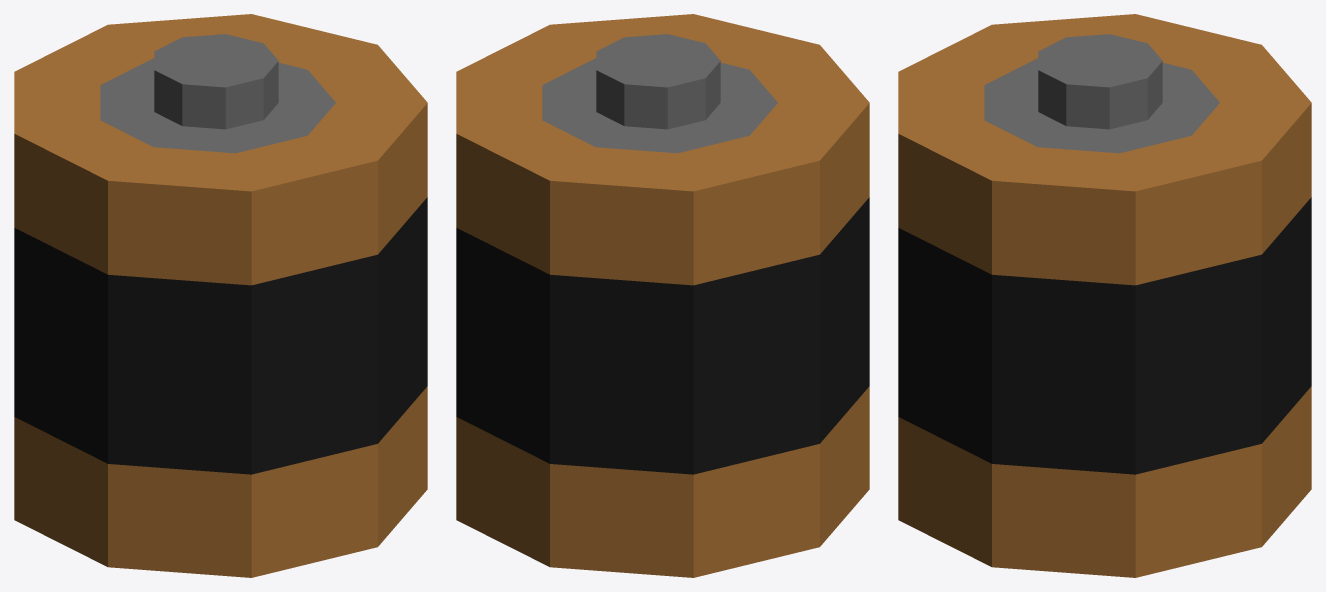
The model's file is Battery .fbx.
3 views of the same model, side by side, from view 1: azimuth 30°, elevation 25°; view 2: azimuth 150°, elevation 25°; view 3: azimuth 270°, elevation 25° (orthographic).
Visible parts, largest first — view 1: Cube; view 2: Cube; view 3: Cube.
Boxes of the visible parts, x1=… form: Cube: x1=14, y1=14, x2=427, y2=577; Cube: x1=456, y1=14, x2=869, y2=577; Cube: x1=898, y1=14, x2=1311, y2=577.
Bounding box in the file's own units: 197 × 222 × 194.
